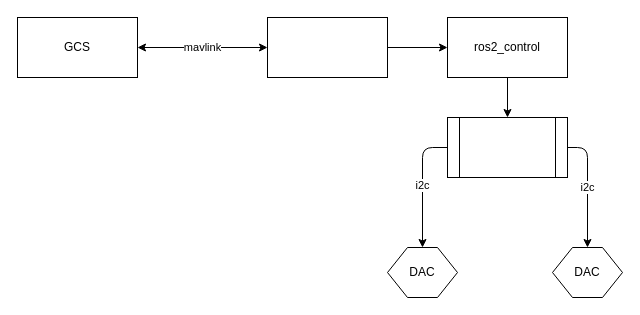
Image size: 640x315. Some labels were removed from this diagram. Each missing label, with the centre of its shape:
"hardware interface" goes at point (507, 147).
"mav_node" goes at point (327, 47).
